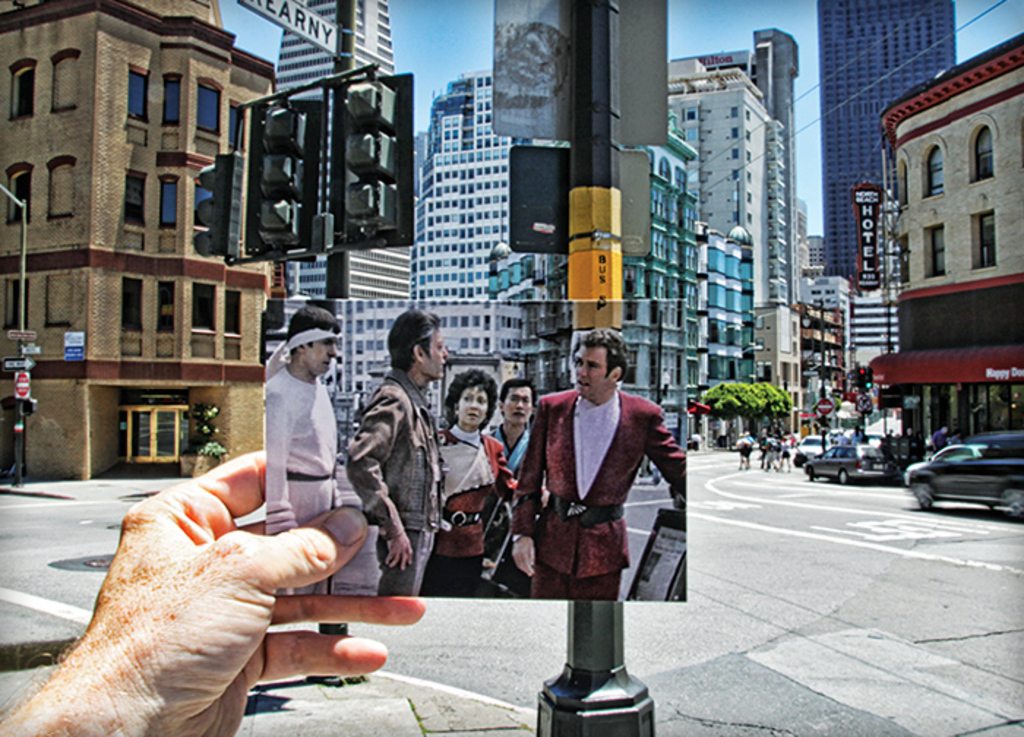Car: (899, 440, 1022, 514), (806, 448, 896, 489), (801, 437, 827, 460)
